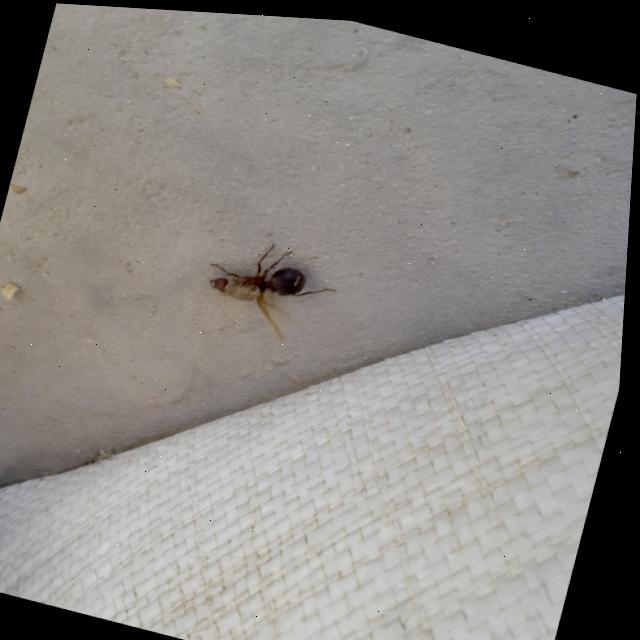Alive-Female-Alate: (198, 225, 350, 347)
